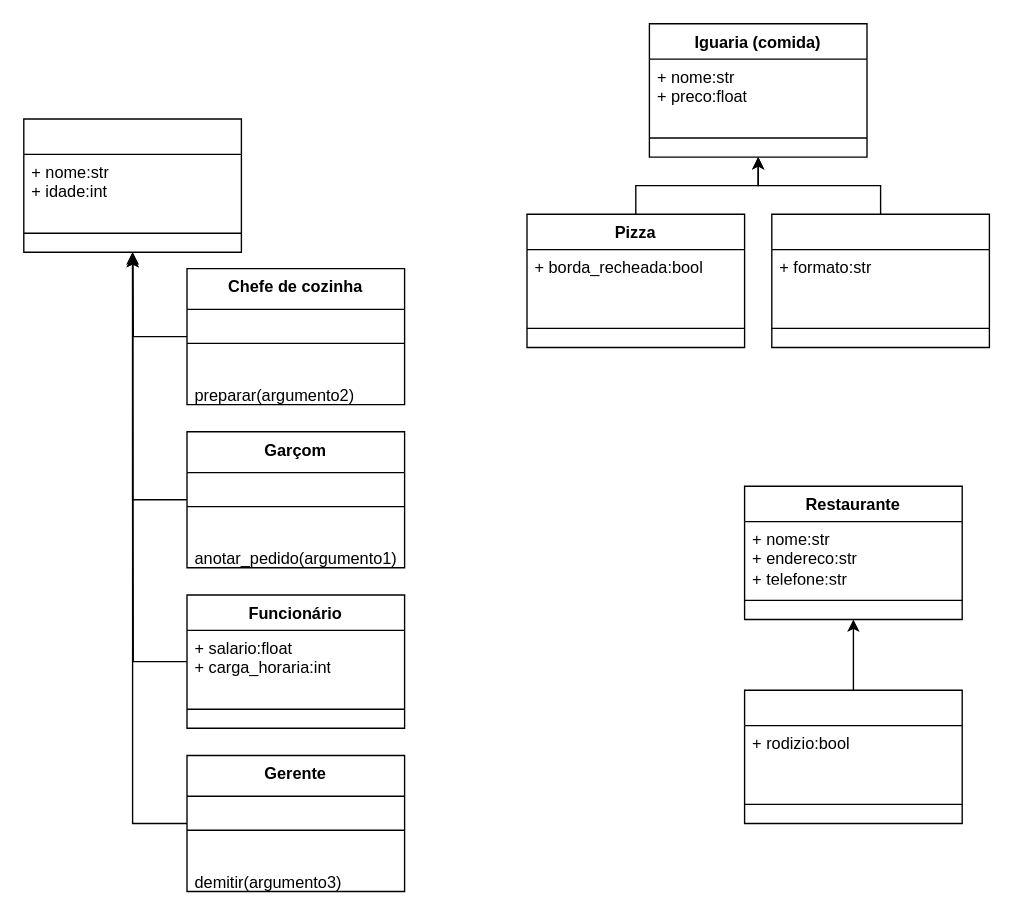
The diagram is 1013 pixels wide and 919 high, and some of its shapes have lost their labels. Here are the shapes that lost their labels. From the top down, the box of each, then its label:
(22, 118, 241, 252): Pessoa
(770, 213, 989, 347): Bolo
(743, 689, 962, 823): Pizzaria
